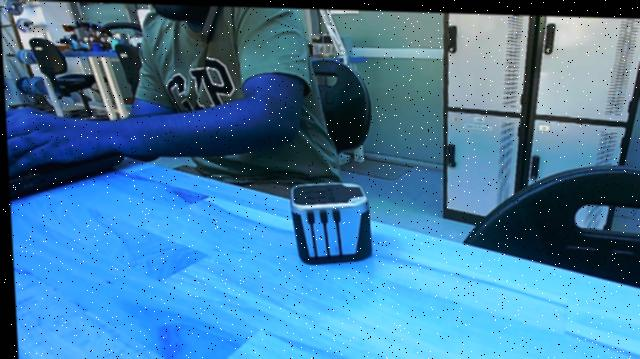adapter: (281, 176, 378, 275)
